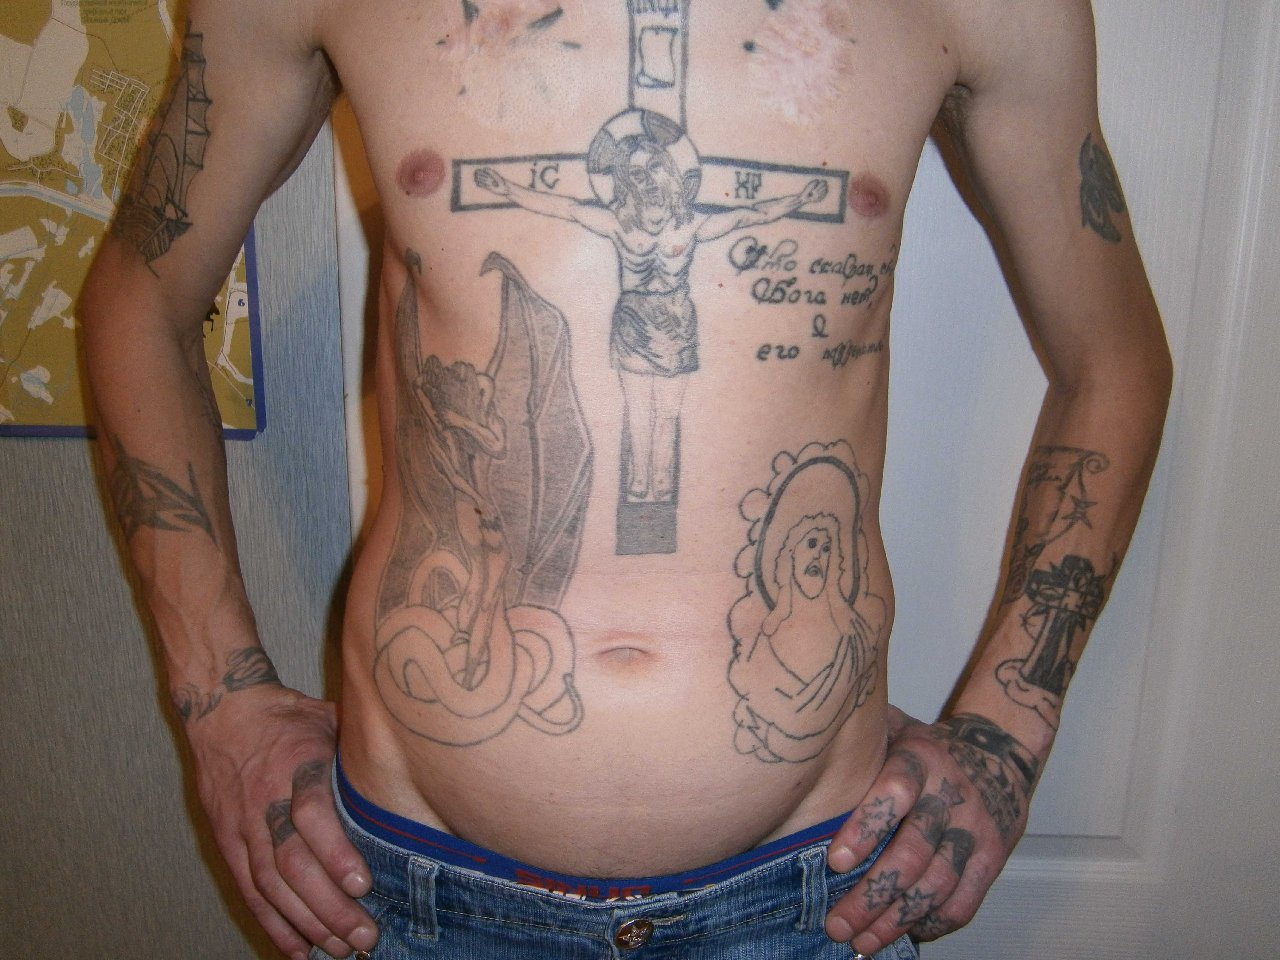tatu9_krest: (435, 1, 851, 560), (1000, 552, 1120, 714)
